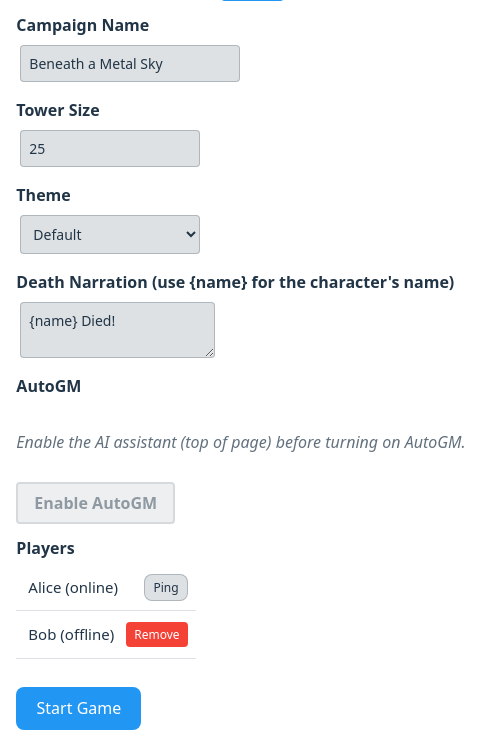
AdminPanel Component › removing a disconnected player frees the character they held
(page scrolled)
Click the button "Remove": (157, 635) [126,622,188,647]
(page scrolled)
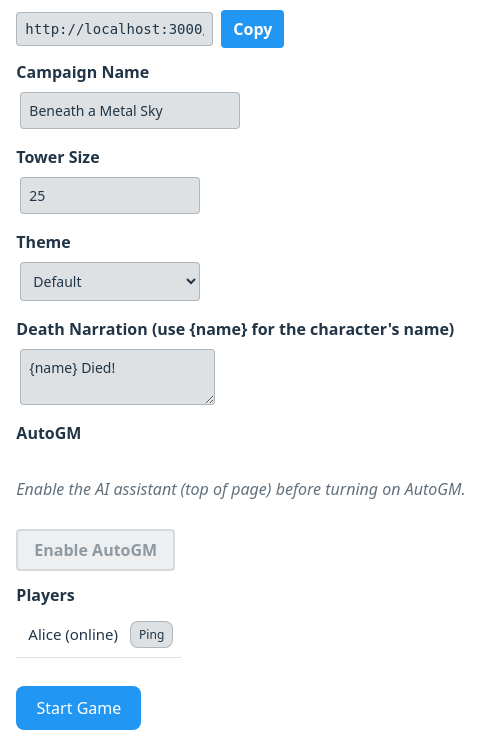
Now the text "Bob (offline)" is gone
